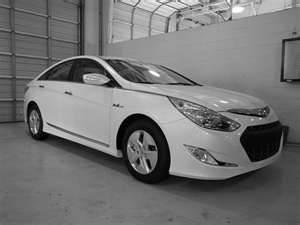car: (24, 57, 286, 188)
